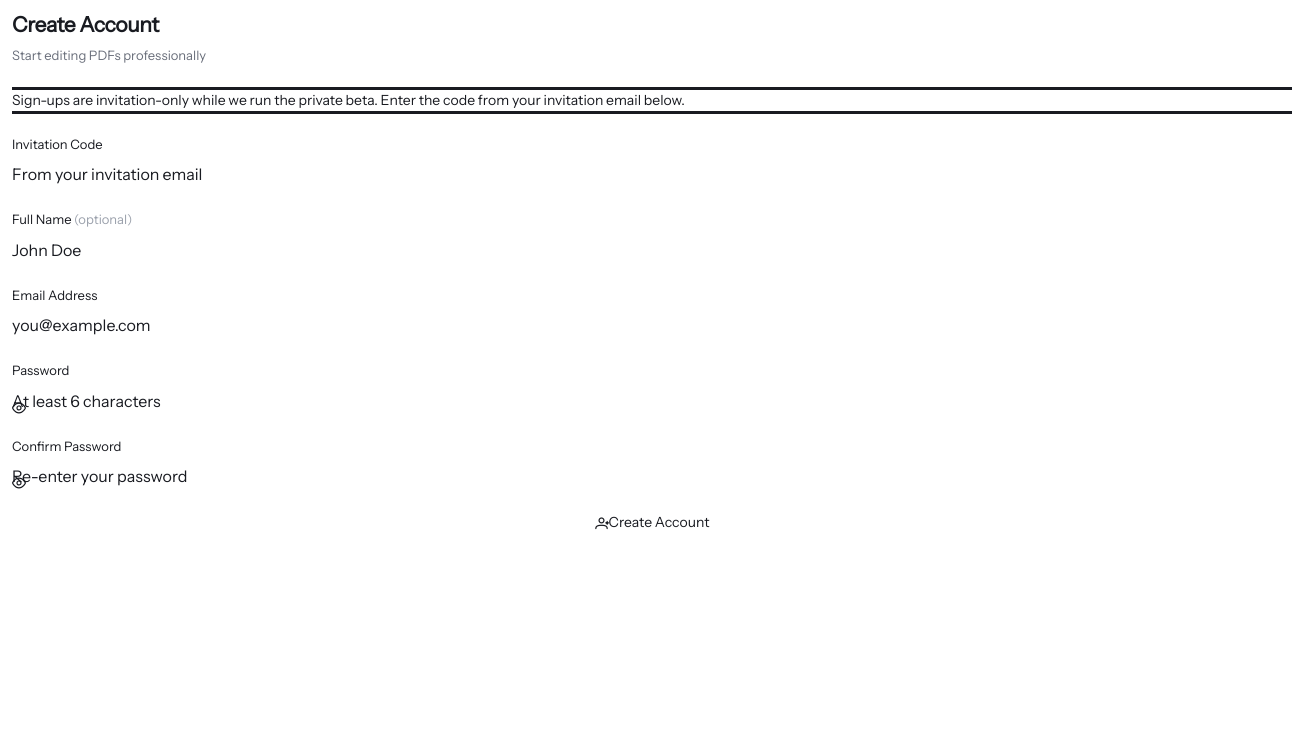
RegisterForm › registration mode › refuses to submit an empty code rather than spending a round trip
This screenshot has width=1304, height=732.
Step 1. Type "test@example.com" into the field labelled "Email Address" → x=652, y=325, box x1=12 y1=313 x2=1292 y2=337
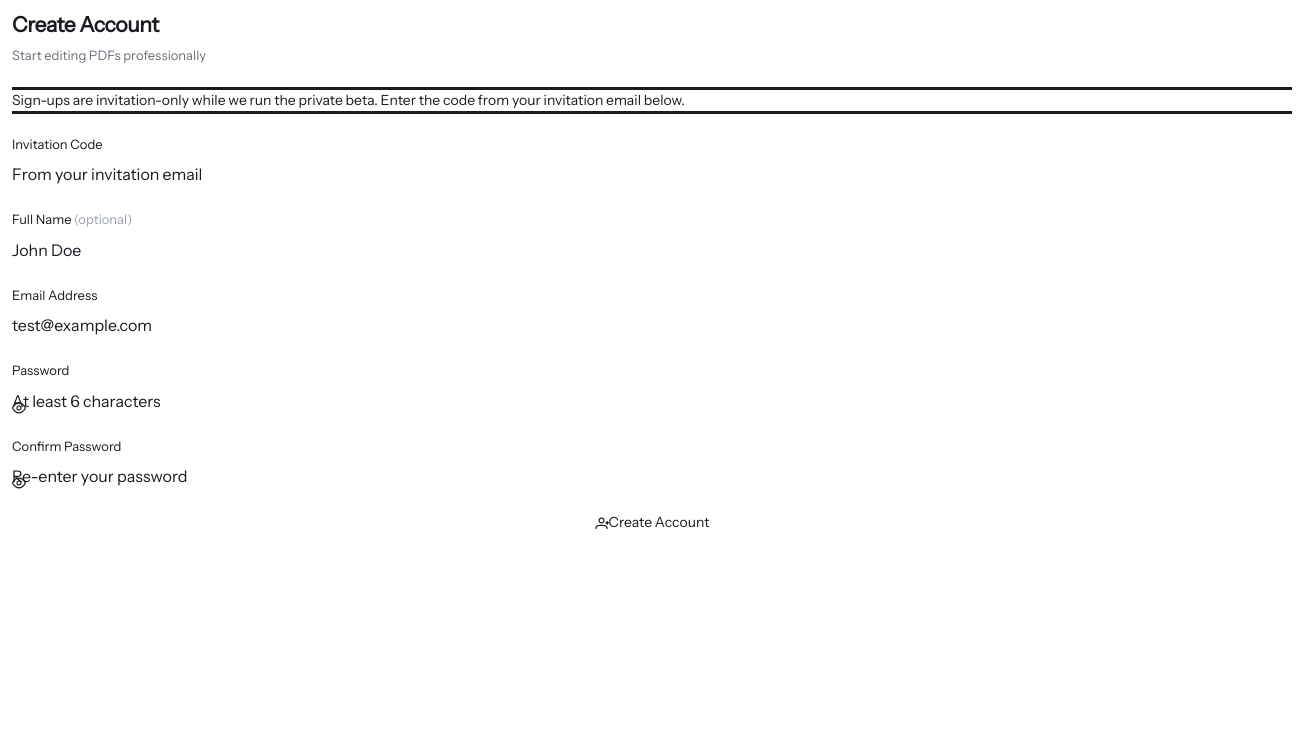
Step 2. Type "password123" into the password field with placeholder "At least 6 characters" → x=652, y=401, box x1=12 y1=389 x2=1292 y2=413
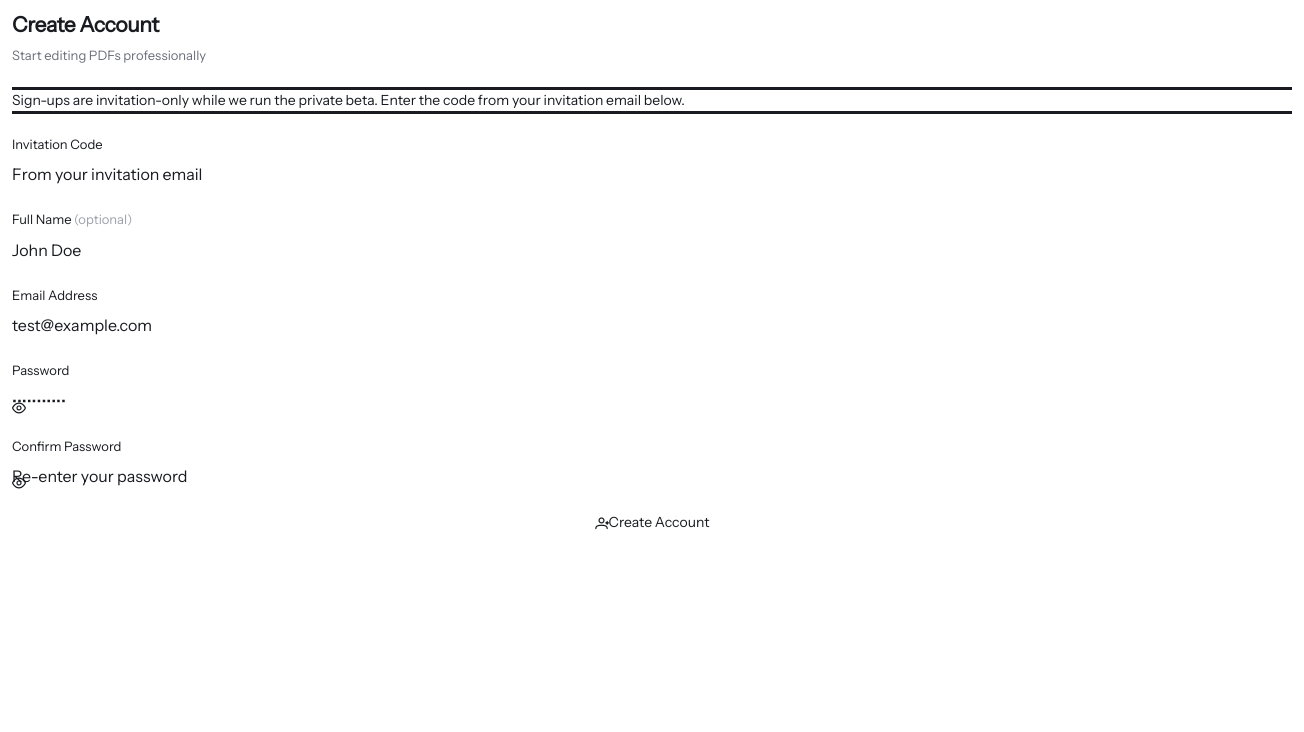
Step 3. Type "password123" into the password field with placeholder "Re-enter your password" → x=652, y=476, box x1=12 y1=464 x2=1292 y2=488
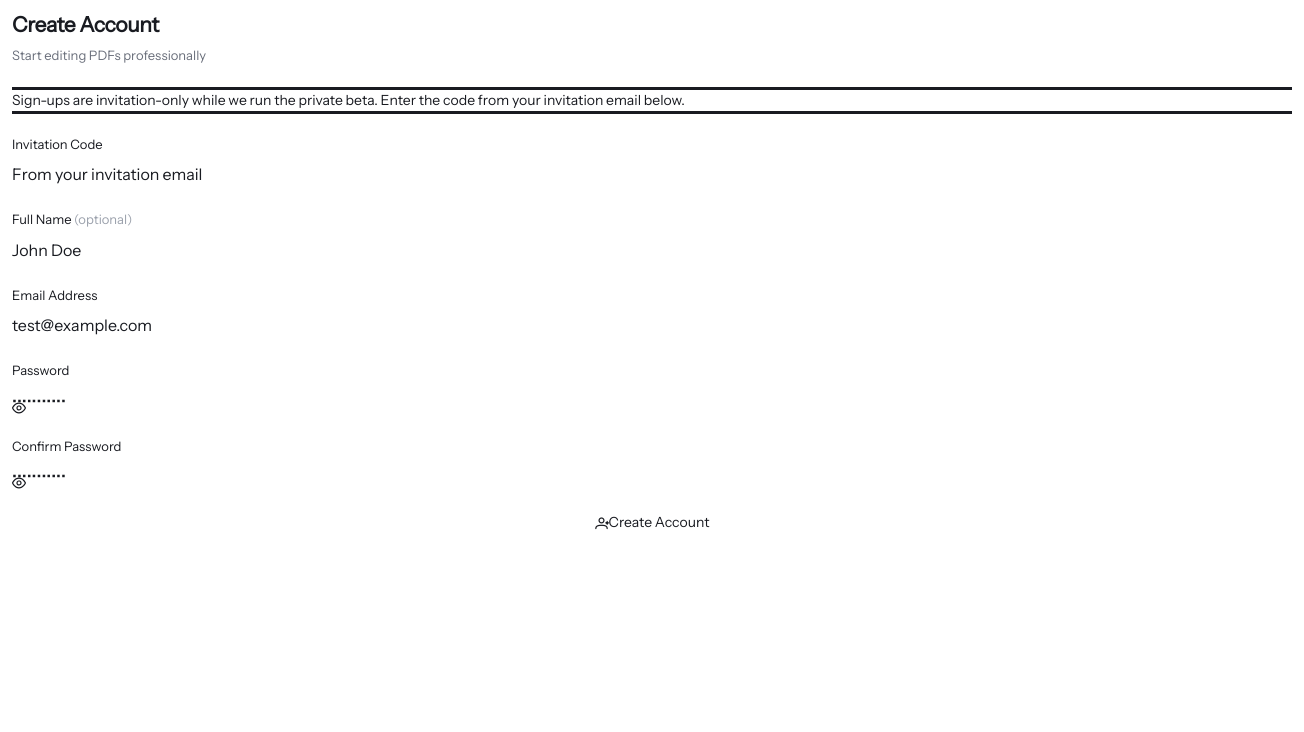
Step 4. Submit the form
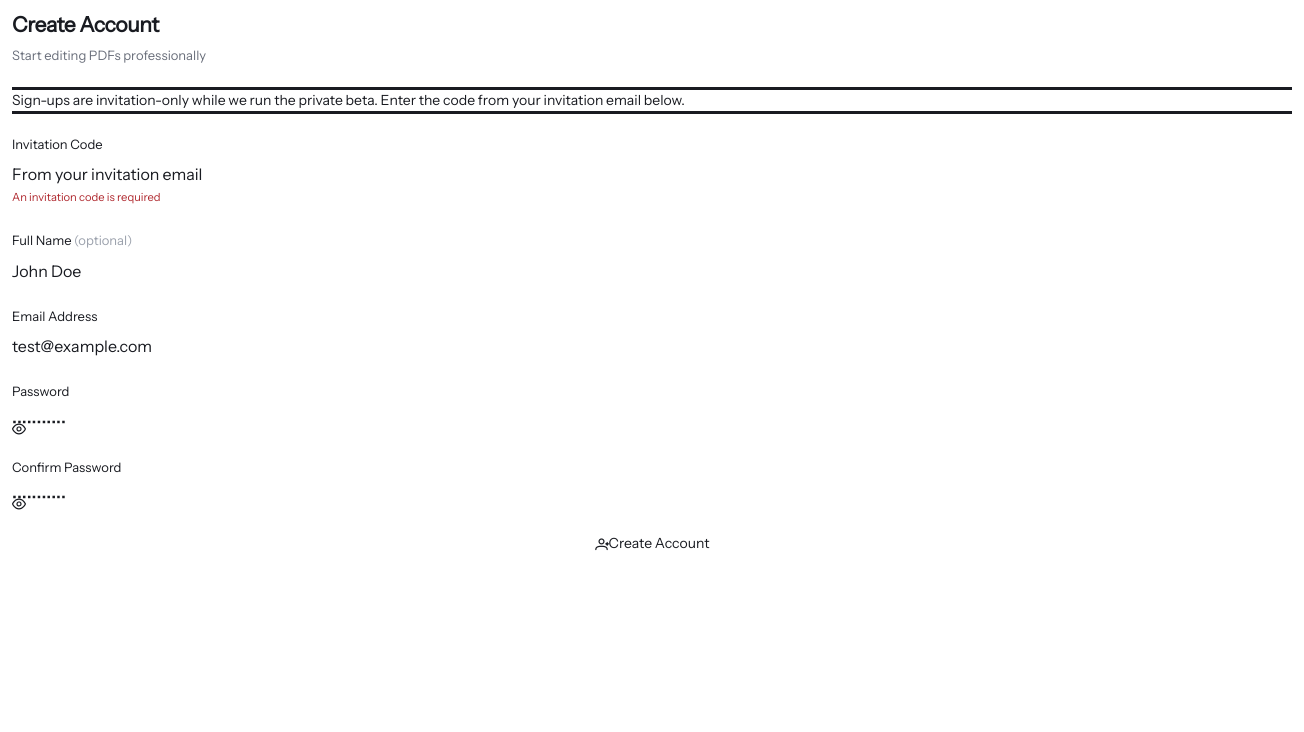
Now the form shows "An invitation code is required", box x1=12 y1=190 x2=160 y2=204
